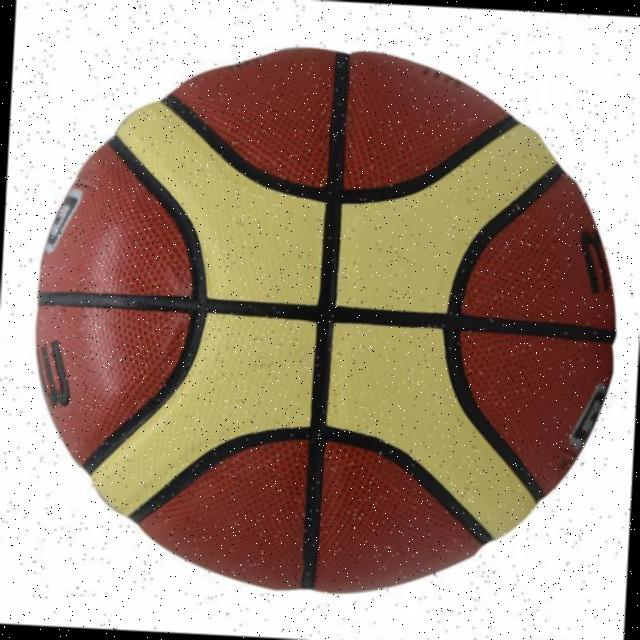ball: (23, 36, 628, 606)
